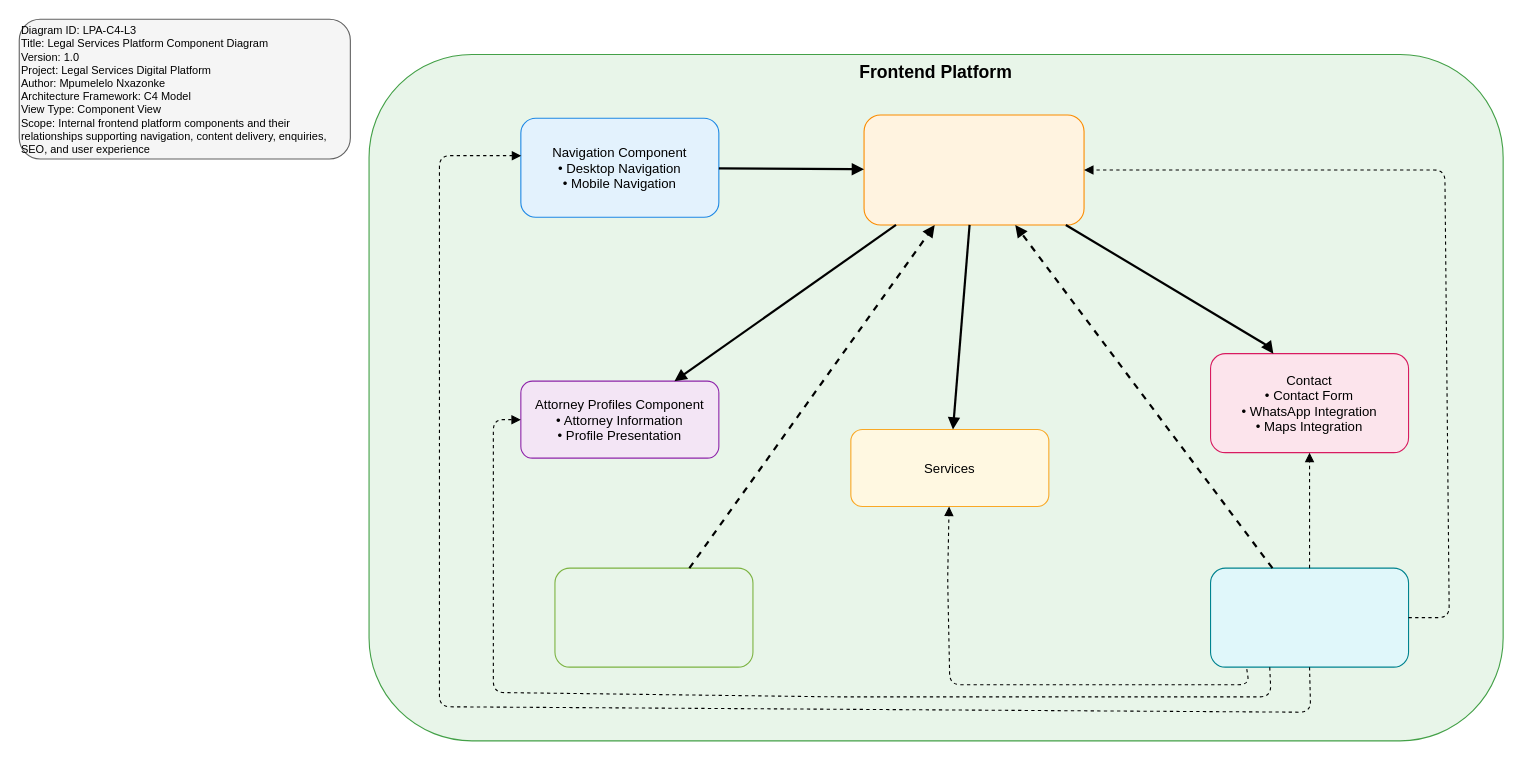
Image size: 1522x760. Some labels were removed from this diagram. Here are the shapes that lost their labels. From the top down, the centre of each, then its label:
At point 973,169: "Content Component • Home • About • Thank You • 404".
At point 653,617: "SEO • Metadata • Semantic HTML • Sitemap • Robots.txt".
At point 1309,617: "UI & Animation • Preloader • Effects • Responsive UI".
